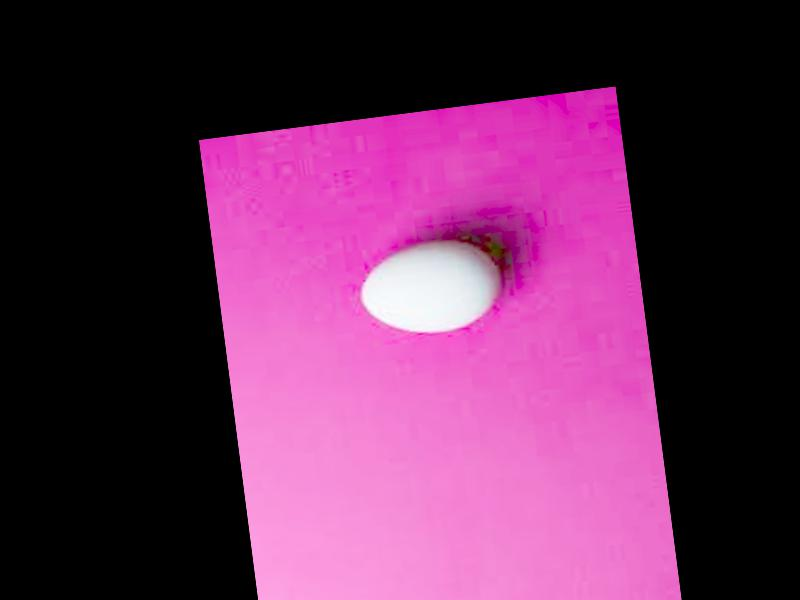Eggs: (355, 235, 504, 341)
